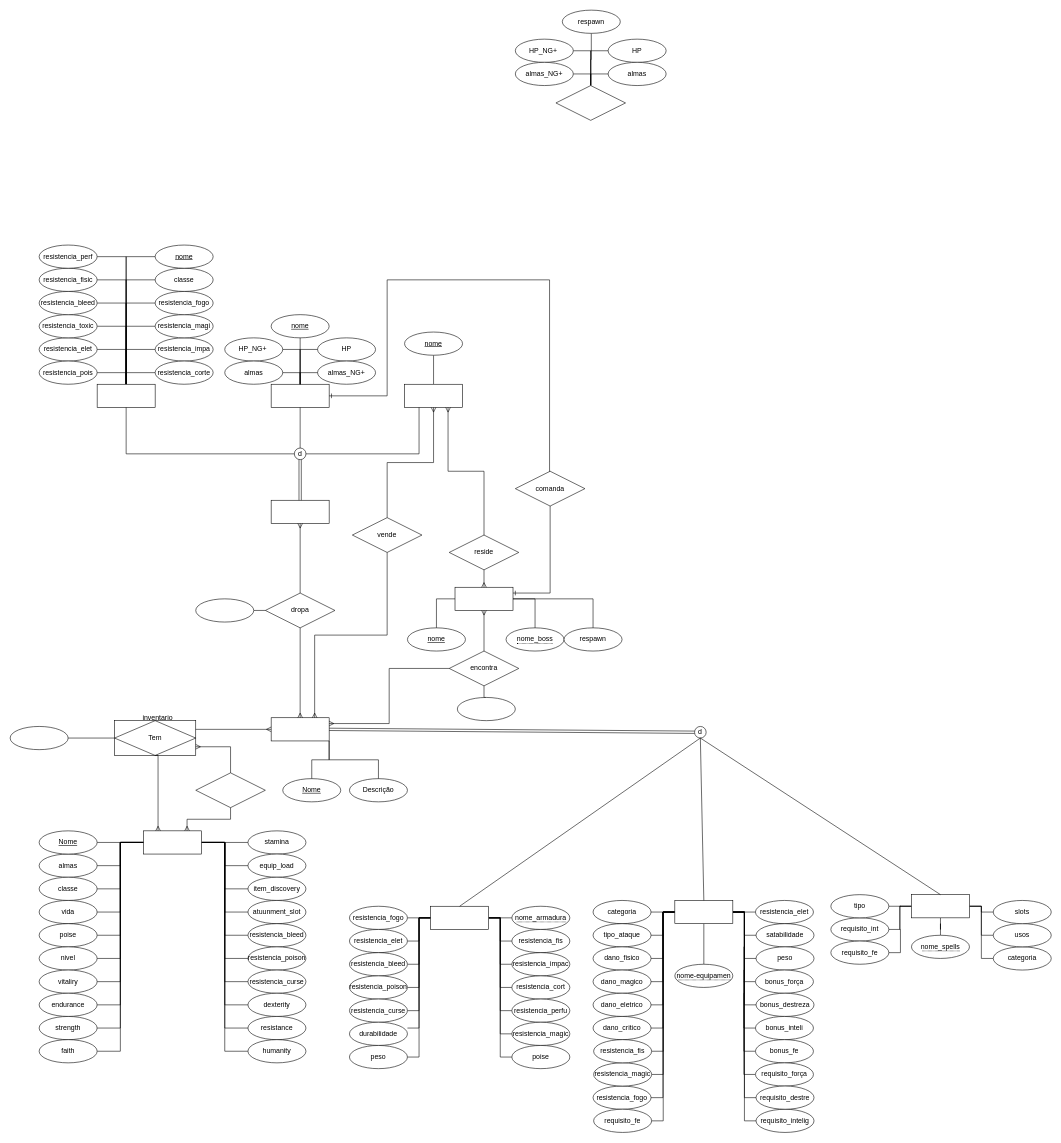
This 1061x1143 diagram has some shape labels left out. The box of each missing label's shape, as (x1, y1, x2, y2) in pixels:
armaduras: (430, 906, 489, 929)
boss: (271, 384, 329, 407)
chance: (195, 598, 254, 622)
entidade: (271, 500, 329, 523)
Equipa: (195, 772, 265, 808)
equipamentos: (674, 900, 733, 924)
Itens: (271, 717, 329, 741)
lugar: (457, 697, 515, 721)
mapa: (454, 587, 513, 610)
monstro: (97, 384, 155, 407)
npc: (404, 384, 463, 407)
Personagens: (143, 830, 202, 854)
quantidade: (10, 726, 68, 750)
spawna: (555, 85, 626, 120)
Spells: (911, 894, 969, 918)
